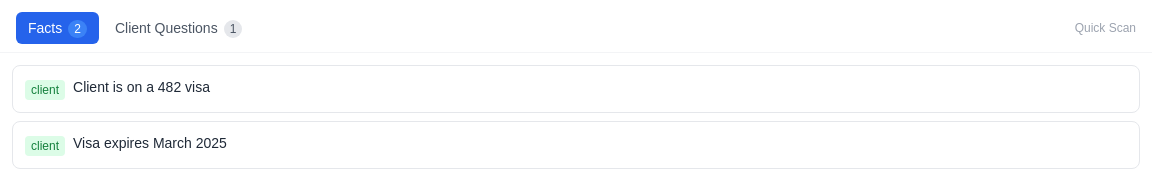
Test case: ResultsPanel › with results › shows questions tab content when Questions tab is clicked
This screenshot has width=1152, height=186.
Click the button "Client Questions1" at (179, 28), box top-left (103, 12), bottom-right (254, 44)
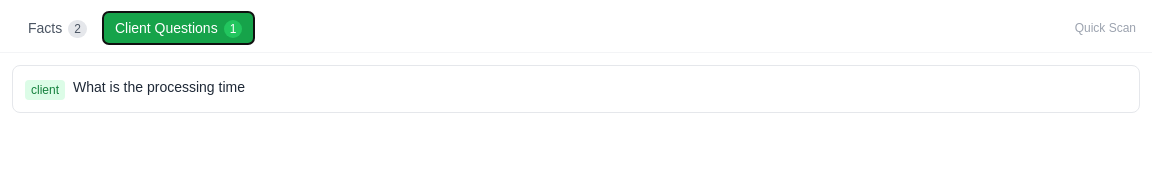
Now the text "What is the processing time" is shown, box top-left (73, 78), bottom-right (245, 97)
